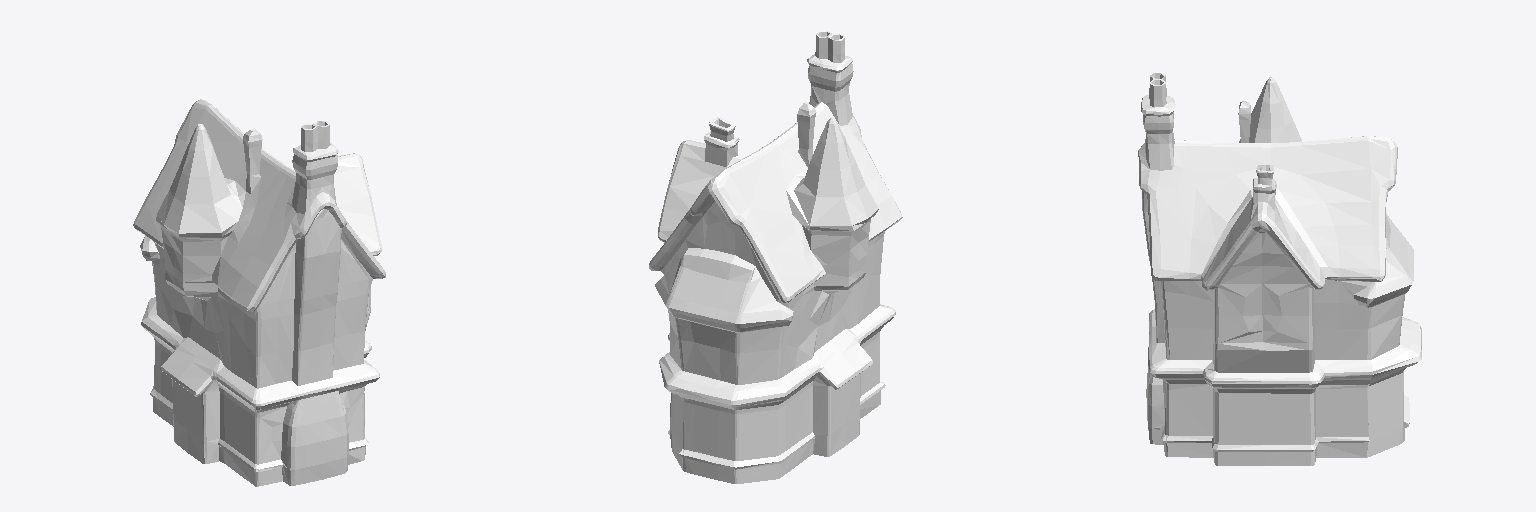
Rendered from House-4.obj.
3 views of the same model, side by side, from view 1: azimuth 30°, elevation 25°; view 2: azimuth 150°, elevation 25°; view 3: azimuth 270°, elevation 25° (orthographic).
Visible parts, largest first — view 1: House_4; view 2: House_4; view 3: House_4.
Part boxes in pixels (x1,y1,x2,y2): House_4: (133,99,385,486); House_4: (649,31,902,483); House_4: (1138,73,1421,465).
Size of the model in its own units: 3.49 by 6.11 by 4.46.